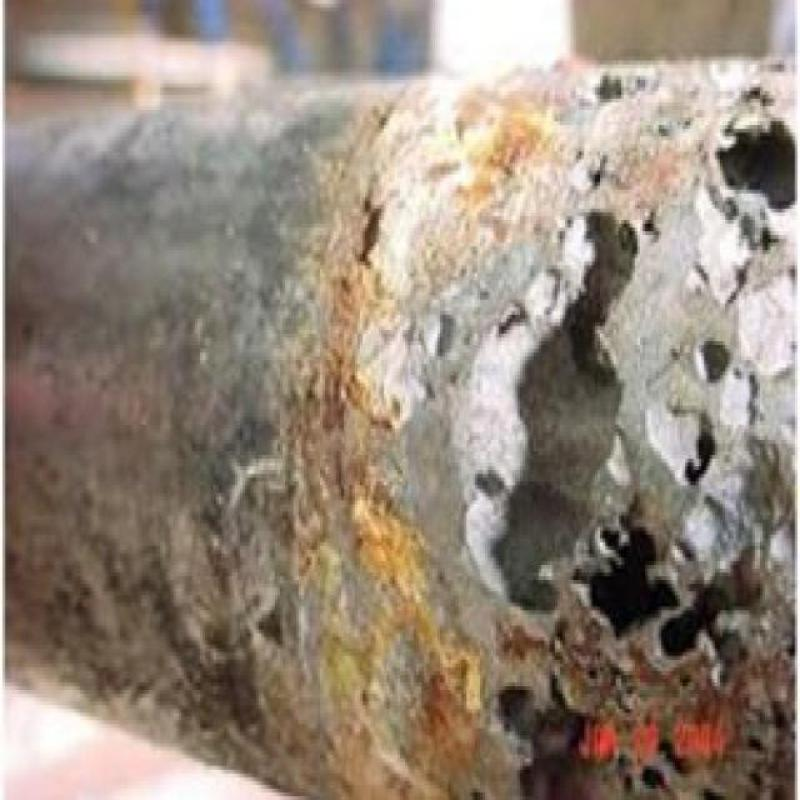Fracture: (505, 240, 770, 745)
